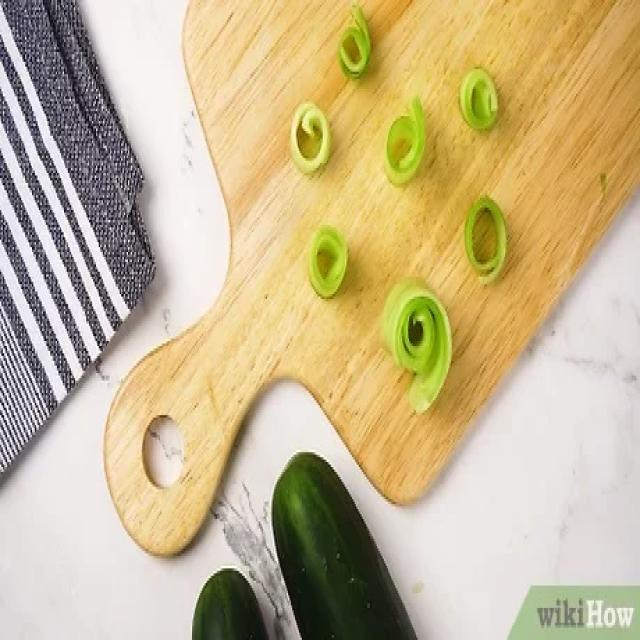Pickle: (274, 453, 415, 639), (192, 568, 266, 640)
